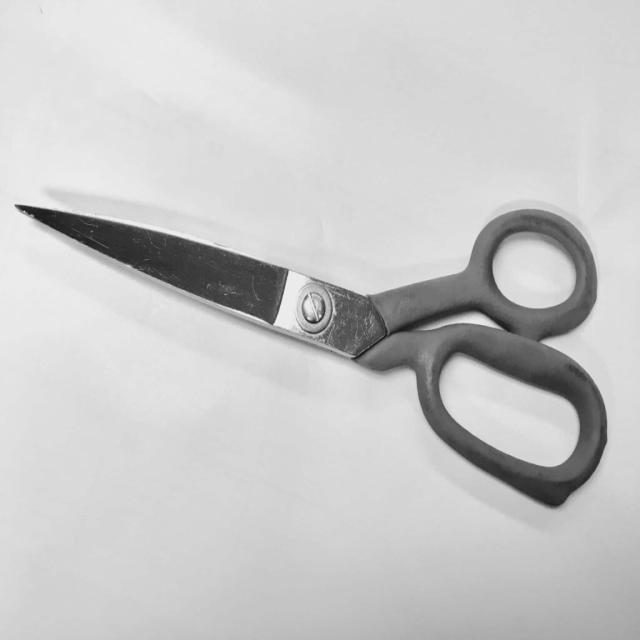scissor: (0, 182, 622, 509)
